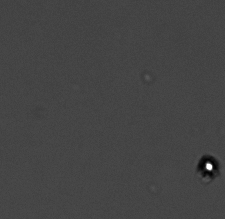Living Cell: (198, 155, 218, 176)
